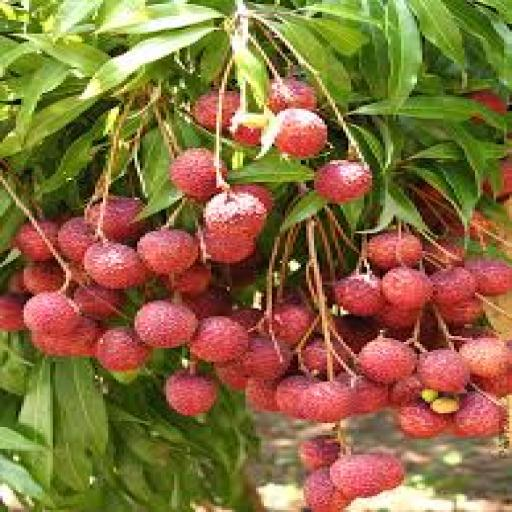lychee: (330, 453, 403, 498), (169, 149, 226, 201), (204, 190, 266, 237), (135, 301, 197, 347), (85, 242, 147, 288), (138, 230, 200, 274), (357, 337, 416, 383), (85, 196, 145, 241), (191, 317, 248, 363), (32, 317, 100, 355), (275, 109, 327, 158), (299, 380, 356, 423), (315, 161, 372, 203), (96, 327, 150, 371), (417, 348, 469, 393), (24, 293, 81, 334), (454, 392, 506, 436), (333, 273, 385, 316), (167, 372, 216, 415), (383, 267, 432, 310), (367, 232, 422, 270), (243, 337, 292, 379), (396, 402, 451, 438), (267, 303, 314, 345), (304, 469, 351, 511), (460, 339, 509, 377), (201, 230, 255, 264), (193, 91, 240, 130), (465, 257, 511, 296), (74, 285, 124, 320), (431, 267, 477, 304), (275, 376, 314, 419), (14, 222, 58, 260), (301, 337, 345, 375), (267, 78, 316, 112), (183, 287, 232, 320), (59, 218, 95, 262), (299, 435, 340, 470), (169, 263, 211, 296), (24, 261, 65, 294), (354, 378, 390, 415), (375, 303, 422, 330), (439, 297, 482, 326), (233, 184, 274, 213), (246, 378, 279, 411), (391, 374, 424, 407), (425, 240, 464, 266), (0, 295, 26, 332), (217, 360, 248, 391), (468, 89, 506, 114), (230, 307, 263, 332), (233, 125, 261, 146), (431, 398, 459, 415)
